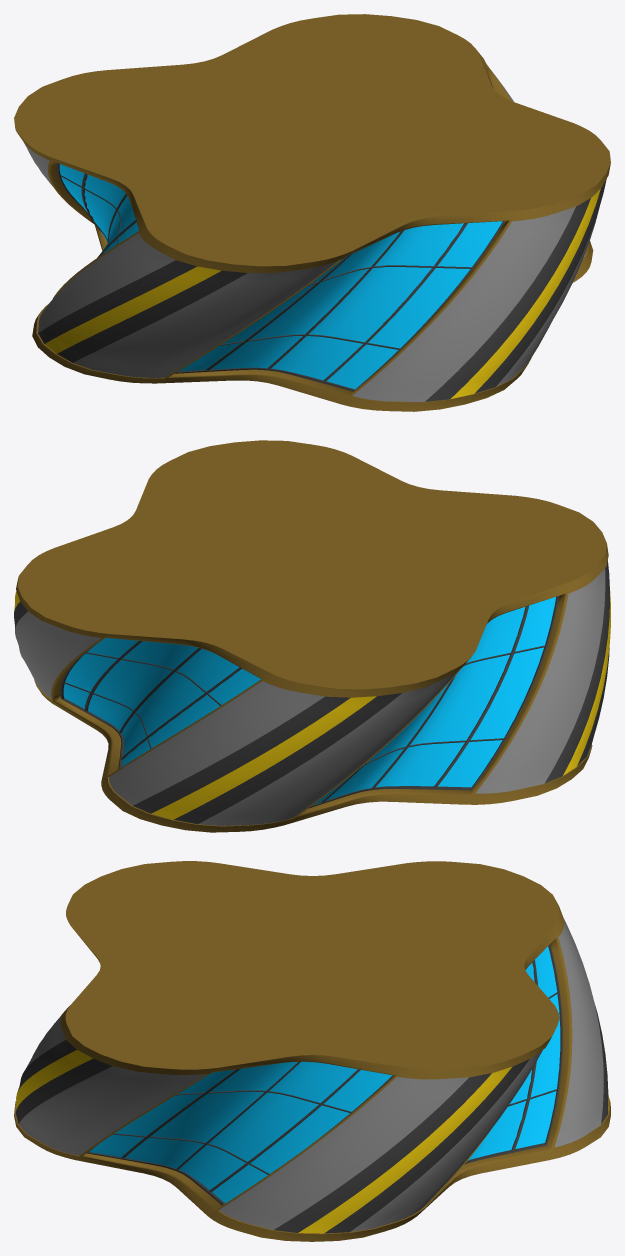
Rendered from SM_Building_Middle_02_MK5.fbx.
3 renders of one model, top to bottom at view 1: azimuth 30°, elevation 25°; view 2: azimuth 150°, elevation 25°; view 3: azimuth 270°, elevation 25°, orthographic.
Parts seen in each view (by area): view 1: SM_Building_Middle_02_MK5; view 2: SM_Building_Middle_02_MK5; view 3: SM_Building_Middle_02_MK5.
Boxes of the visible parts, x1,y1,x2,y2 form: SM_Building_Middle_02_MK5: [14, 14, 610, 411]; SM_Building_Middle_02_MK5: [14, 440, 610, 832]; SM_Building_Middle_02_MK5: [14, 861, 610, 1241].
Size of the model in its own units: 1801 by 500 by 1801.
